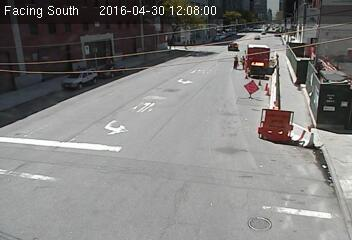neg: (190, 149, 231, 204), (288, 75, 308, 102), (214, 37, 232, 62), (284, 142, 300, 164), (67, 20, 81, 40), (185, 50, 196, 65), (132, 53, 140, 63), (186, 27, 194, 37)
pos: (231, 55, 242, 69)
